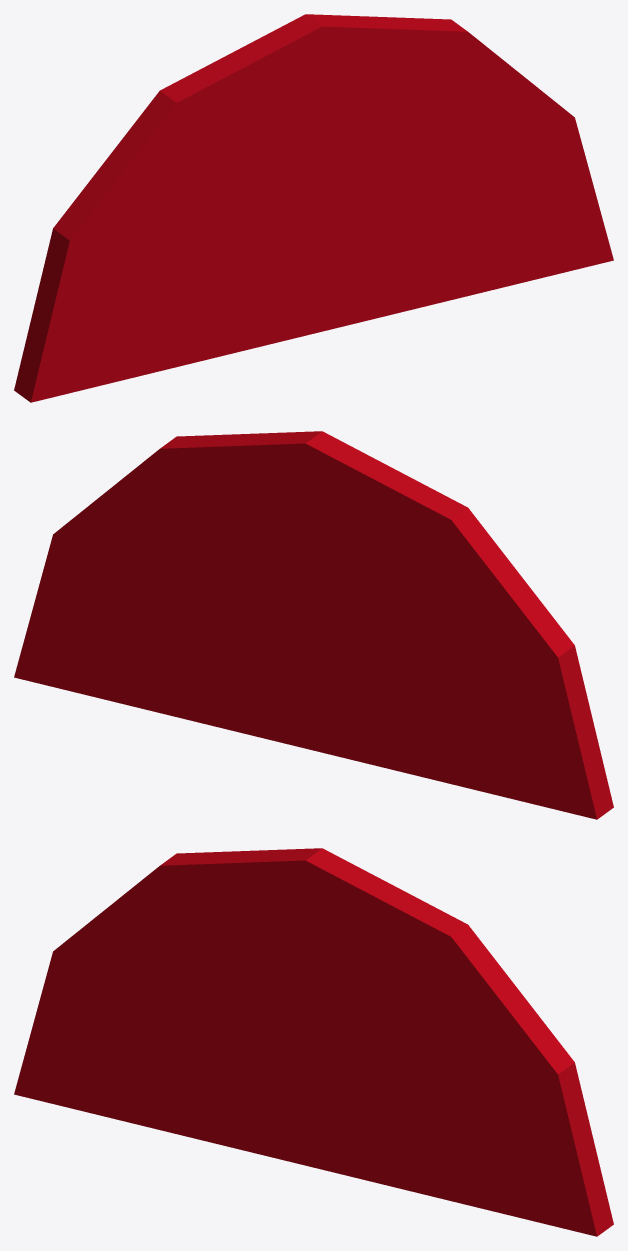
File: fan.glb
The picture shows the model from 3 angles, top to bottom: view 1: azimuth 30°, elevation 25°; view 2: azimuth 150°, elevation 25°; view 3: azimuth 330°, elevation 25°; orthographic projection.
Parts seen in each view (by area): view 1: Cylinder; view 2: Cylinder; view 3: Cylinder.
Boxes of the visible parts, x1,y1,x2,y2 form: Cylinder: [14, 14, 613, 402]; Cylinder: [14, 431, 613, 819]; Cylinder: [14, 848, 613, 1236].
Bounding box in the file's own units: 2 × 1 × 0.1.
